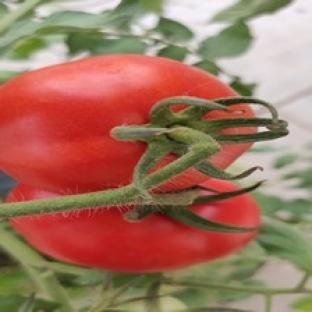Tomato: (0, 55, 236, 193), (12, 207, 256, 272)
